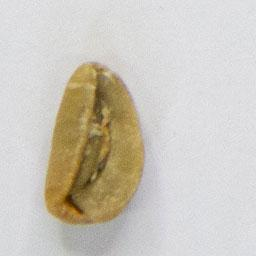longberry: (39, 56, 148, 228)
